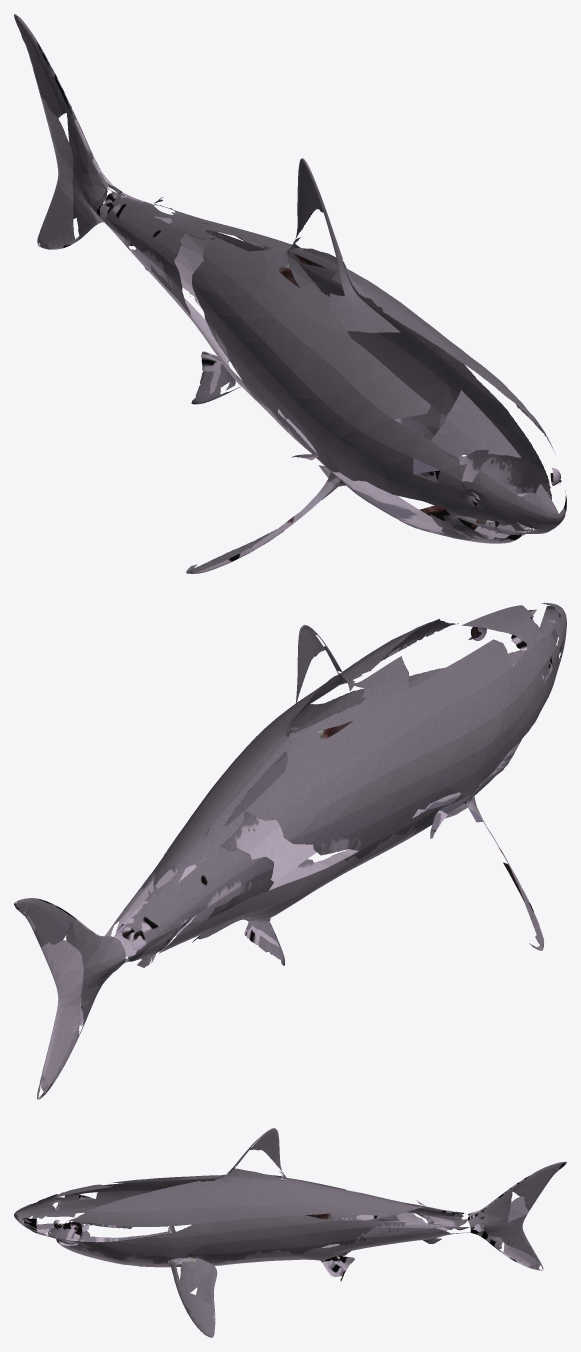
File: Shark.obj
3 renders of one model, top to bottom at view 1: azimuth 30°, elevation 25°; view 2: azimuth 150°, elevation 25°; view 3: azimuth 270°, elevation 25°, orthographic. The views are drawn at different scales.
Visible parts, largest first — view 1: Shark_01SG1.001; view 2: Shark_01SG1.001; view 3: Shark_01SG1.001.
Boxes of the visible parts, x1,y1,x2,y2 form: Shark_01SG1.001: (14, 14, 566, 573); Shark_01SG1.001: (14, 602, 566, 1099); Shark_01SG1.001: (14, 1128, 566, 1337).
Size of the model in its own units: 26.84 by 23.5 by 71.07.
Materials: 1 (1 with a texture image).
